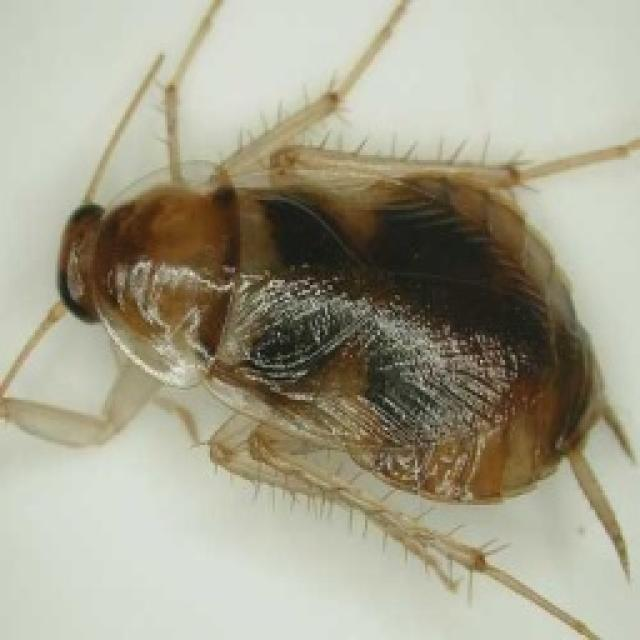cockroach: (19, 81, 636, 571)
